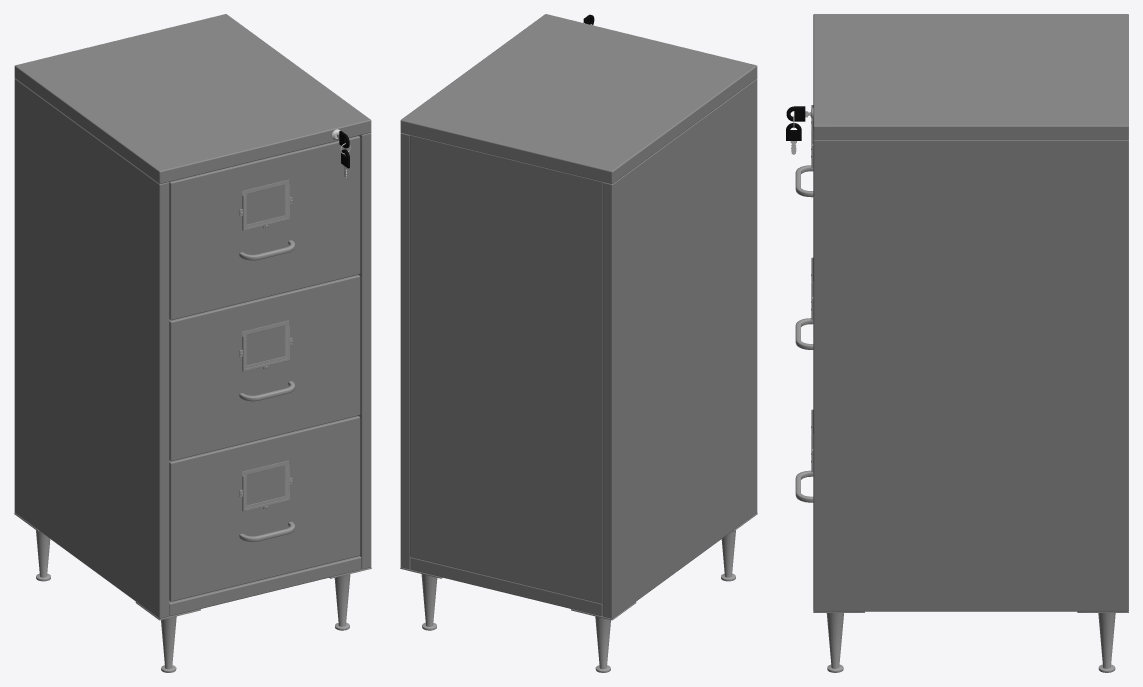
Rendered from iron_cabinet_high.gltf.
3 views of the same model, side by side, from view 1: azimuth 30°, elevation 25°; view 2: azimuth 150°, elevation 25°; view 3: azimuth 270°, elevation 25° (orthographic). The views are drawn at different scales.
Parts seen in each view (by area): view 1: Office_Storage_Filing-Cabinet_01_0_3; view 2: Office_Storage_Filing-Cabinet_01_0_3; view 3: Office_Storage_Filing-Cabinet_01_0_3.
Part boxes in pixels (box(x1,y1,x2,y2)): Office_Storage_Filing-Cabinet_01_0_3: box(14, 14, 371, 672); Office_Storage_Filing-Cabinet_01_0_3: box(400, 14, 757, 672); Office_Storage_Filing-Cabinet_01_0_3: box(786, 14, 1128, 672).
Bounding box in the file's own units: 0.4241 × 0.9782 × 0.547.
4 materials, 2 textured.
